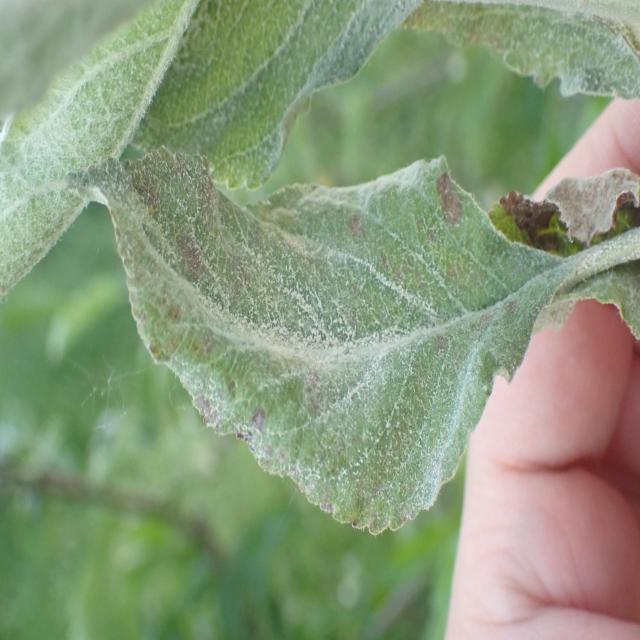Powdery_mildew: (74, 145, 588, 565), (0, 0, 640, 311), (487, 142, 640, 362)
